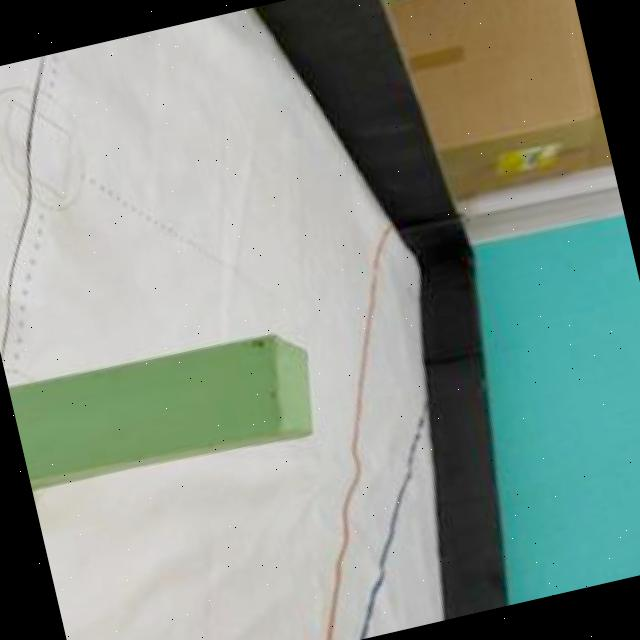greenbox: (6, 316, 328, 502)
